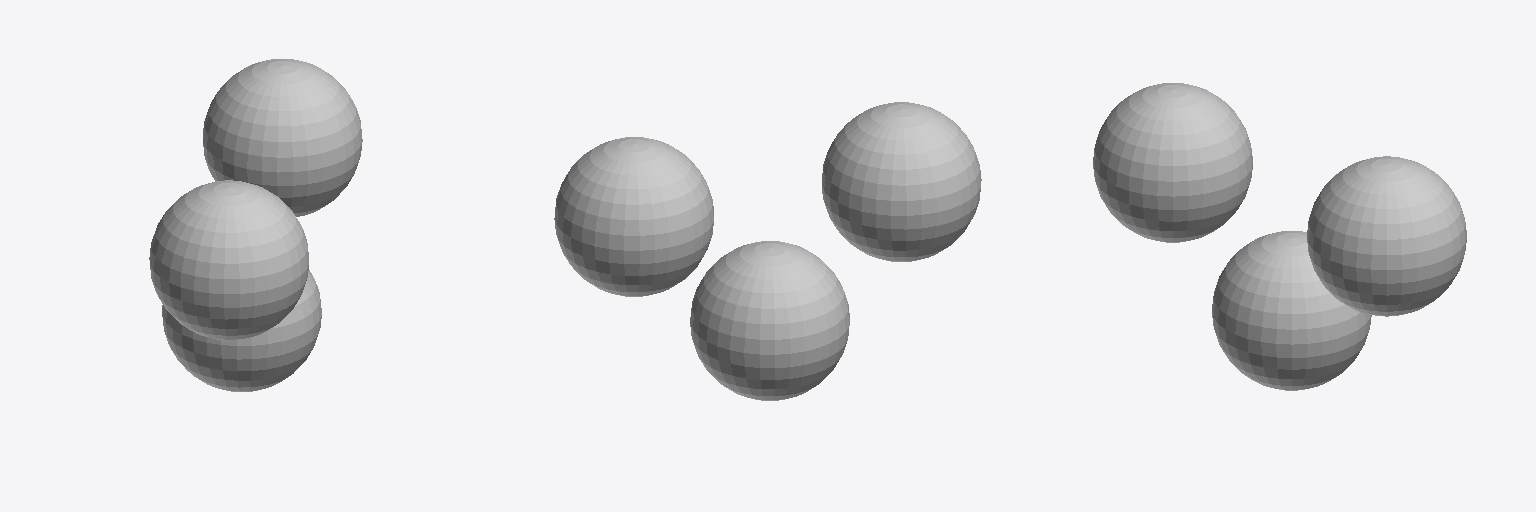
Rendered from Extra_Ball.obj.
3 renders of one model, left to right at view 1: azimuth 30°, elevation 25°; view 2: azimuth 150°, elevation 25°; view 3: azimuth 270°, elevation 25°, orthographic.
Parts seen in each view (by area): view 1: Sphere_Ball, Sphere.002_Ball.002, Sphere.001_Ball.001; view 2: Sphere.002_Ball.002, Sphere_Ball, Sphere.001_Ball.001; view 3: Sphere.002_Ball.002, Sphere_Ball, Sphere.001_Ball.001.
Part boxes in pixels (x1,y1,x2,y2): Sphere_Ball: (149,180,308,340); Sphere.002_Ball.002: (203,59,362,216); Sphere.001_Ball.001: (162,270,321,391); Sphere.002_Ball.002: (554,137,713,296); Sphere_Ball: (822,102,981,261); Sphere.001_Ball.001: (690,241,849,400); Sphere.002_Ball.002: (1307,156,1466,316); Sphere_Ball: (1093,83,1252,242); Sphere.001_Ball.001: (1212,231,1371,390).
Bounding box in the file's own units: 4.31 × 3.61 × 4.67.